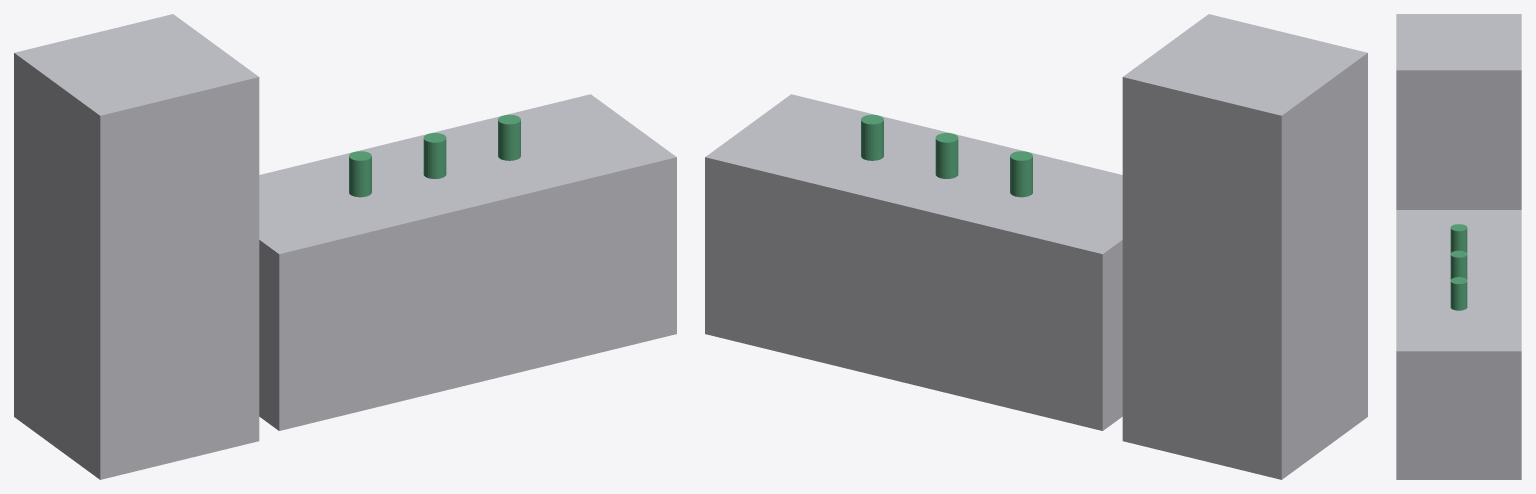
The model's file is prop_kitchen_service.fbx.
The picture shows the model from 3 angles, left to right: view 1: azimuth 30°, elevation 25°; view 2: azimuth 150°, elevation 25°; view 3: azimuth 270°, elevation 25°; orthographic projection. The views are drawn at different scales.
Parts seen in each view (by area): view 1: VintageFridge, KitchenCounter, DistractionBottle_2, DistractionBottle_1, DistractionBottle_3; view 2: VintageFridge, KitchenCounter, DistractionBottle_2, DistractionBottle_1, DistractionBottle_3; view 3: KitchenCounter, VintageFridge, DistractionBottle_3, DistractionBottle_2, DistractionBottle_1.
Boxes of the visible parts, x1,y1,x2,y2 form: VintageFridge: (14, 14, 259, 479); KitchenCounter: (259, 94, 676, 430); DistractionBottle_2: (423, 133, 446, 178); DistractionBottle_1: (349, 151, 371, 197); DistractionBottle_3: (498, 114, 520, 160); VintageFridge: (1122, 14, 1367, 479); KitchenCounter: (705, 94, 1122, 430); DistractionBottle_2: (935, 133, 958, 178); DistractionBottle_1: (1010, 151, 1032, 197); DistractionBottle_3: (861, 114, 883, 160); KitchenCounter: (1396, 210, 1521, 479); VintageFridge: (1396, 14, 1521, 209); DistractionBottle_3: (1450, 277, 1467, 310); DistractionBottle_2: (1450, 250, 1467, 279); DistractionBottle_1: (1450, 224, 1467, 252).
Bounding box in the file's own units: 11.6 × 7 × 3.
